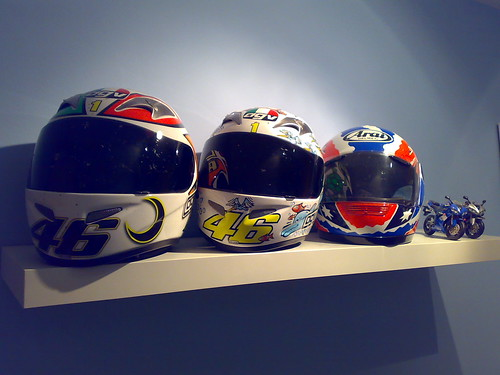helmet: (21, 62, 194, 267), (194, 68, 322, 252), (318, 119, 419, 243)
